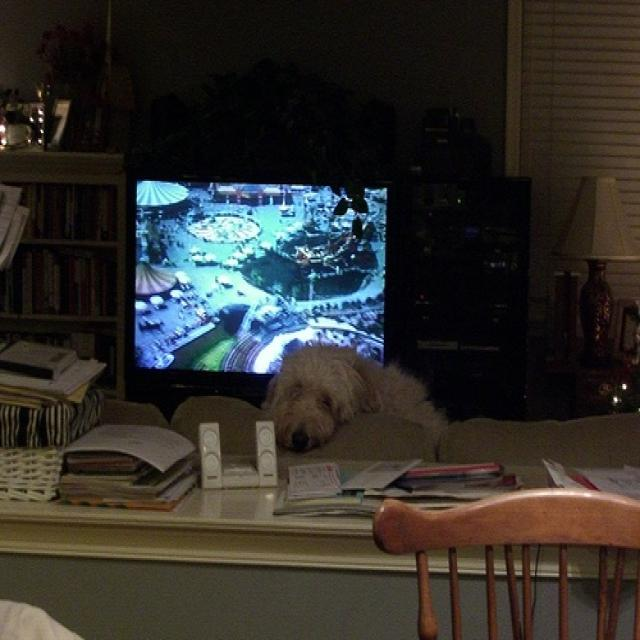chair: (371, 484, 639, 636)
dog: (264, 343, 449, 456)
sofa: (107, 400, 638, 470)
tvmonitor: (127, 145, 398, 405)
